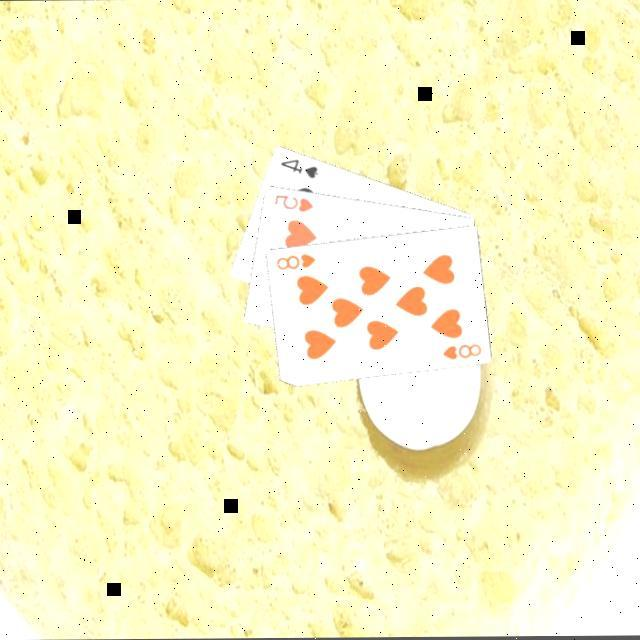4S: (279, 156, 323, 182)
5H: (272, 192, 318, 216)
8H: (275, 252, 320, 274), (441, 342, 486, 364)
